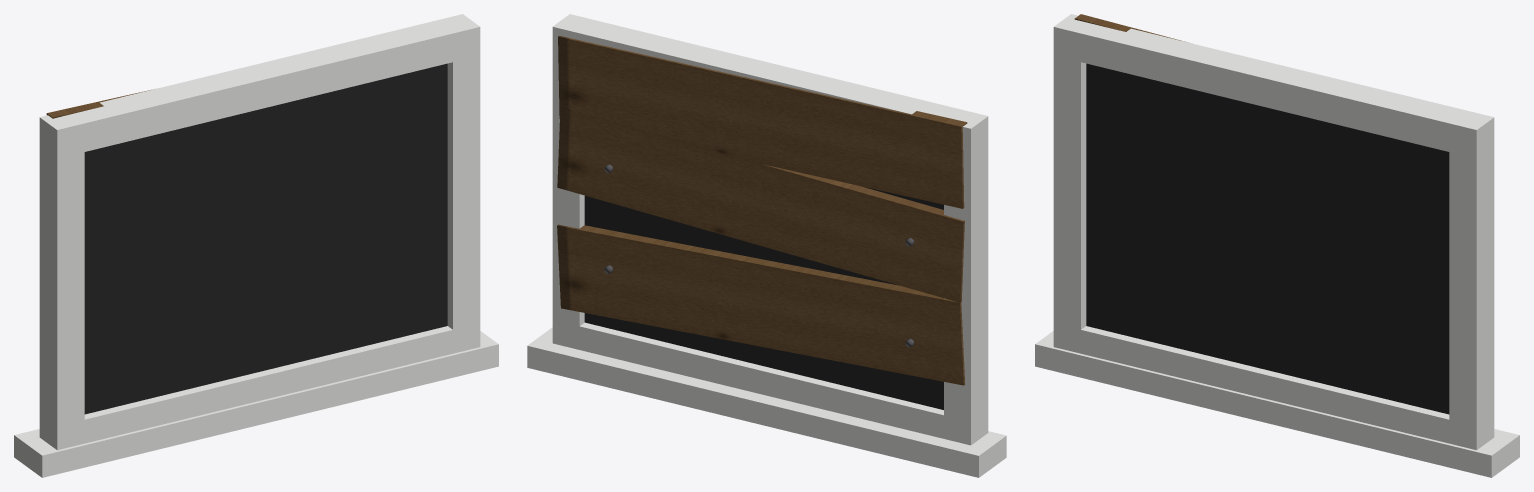
Rendered from WK_WND_WindowBoarded.glb.
3 views of the same model, side by side, from view 1: azimuth 30°, elevation 25°; view 2: azimuth 150°, elevation 25°; view 3: azimuth 330°, elevation 25° (orthographic).
Visible parts, largest first — view 1: WK_WND_WindowBoarded_P06, WK_WND_WindowBoarded_P04, WK_WND_WindowBoarded_P01, WK_WND_WindowBoarded_P05, WK_WND_WindowBoarded_P03, WK_WND_WindowBoarded_P02; view 2: WK_WND_WindowBoarded_P07, WK_WND_WindowBoarded_P08, WK_WND_WindowBoarded_P09, WK_WND_WindowBoarded_P05, WK_WND_WindowBoarded_P06, WK_WND_WindowBoarded_P03, WK_WND_WindowBoarded_P01, WK_WND_WindowBoarded_P04, WK_WND_WindowBoarded_P02; view 3: WK_WND_WindowBoarded_P06, WK_WND_WindowBoarded_P04, WK_WND_WindowBoarded_P02, WK_WND_WindowBoarded_P05, WK_WND_WindowBoarded_P03, WK_WND_WindowBoarded_P01.
Part boxes in pixels (box(x1,y1,x2,y2)): WK_WND_WindowBoarded_P06: box(84, 63, 447, 414); WK_WND_WindowBoarded_P04: box(39, 14, 479, 158); WK_WND_WindowBoarded_P01: box(39, 118, 84, 450); WK_WND_WindowBoarded_P05: box(14, 331, 498, 477); WK_WND_WindowBoarded_P03: box(39, 326, 480, 449); WK_WND_WindowBoarded_P02: box(447, 27, 480, 353); WK_WND_WindowBoarded_P07: box(557, 224, 965, 385); WK_WND_WindowBoarded_P08: box(557, 106, 964, 302); WK_WND_WindowBoarded_P09: box(558, 36, 967, 208); WK_WND_WindowBoarded_P05: box(527, 327, 1006, 477); WK_WND_WindowBoarded_P06: box(584, 186, 943, 409); WK_WND_WindowBoarded_P03: box(552, 320, 988, 444); WK_WND_WindowBoarded_P01: box(944, 116, 988, 445); WK_WND_WindowBoarded_P04: box(552, 14, 987, 156); WK_WND_WindowBoarded_P02: box(552, 27, 584, 349); WK_WND_WindowBoarded_P06: box(1086, 63, 1449, 414); WK_WND_WindowBoarded_P04: box(1054, 14, 1494, 158); WK_WND_WindowBoarded_P02: box(1449, 118, 1494, 449); WK_WND_WindowBoarded_P05: box(1035, 331, 1519, 477); WK_WND_WindowBoarded_P03: box(1054, 326, 1494, 450); WK_WND_WindowBoarded_P01: box(1053, 27, 1086, 353).
Bounding box in the file's own units: 1.5 × 1.08 × 0.16.
4 materials, 1 textured.
